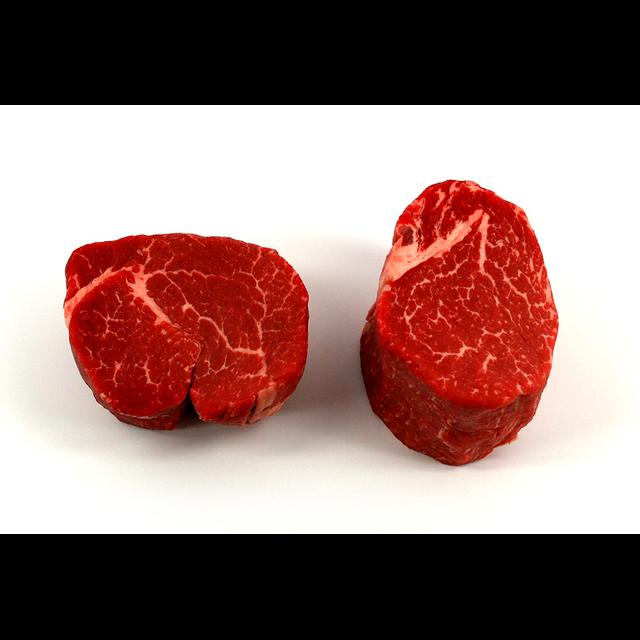beef: (358, 178, 560, 467), (62, 231, 310, 432)
